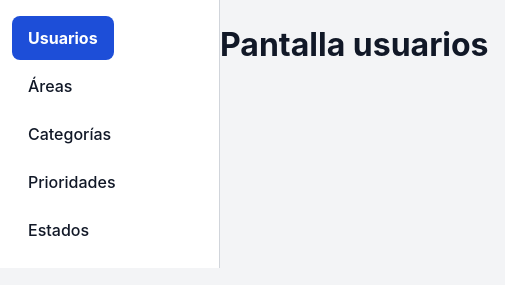
AdminLayout › [ADM-13] muestra la pantalla de la ruta en el Outlet y navega al hacer clic
Expected: the heading "Pantalla usuarios" is shown, [220,25,488,64]
Click the link "Estados". click: click(58, 230)
box: [28,220,89,240]
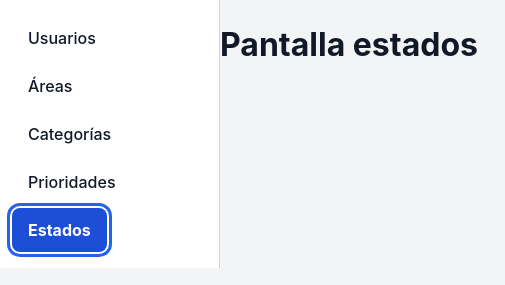
Expected: the heading "Pantalla estados" is shown, [220,25,478,64]
